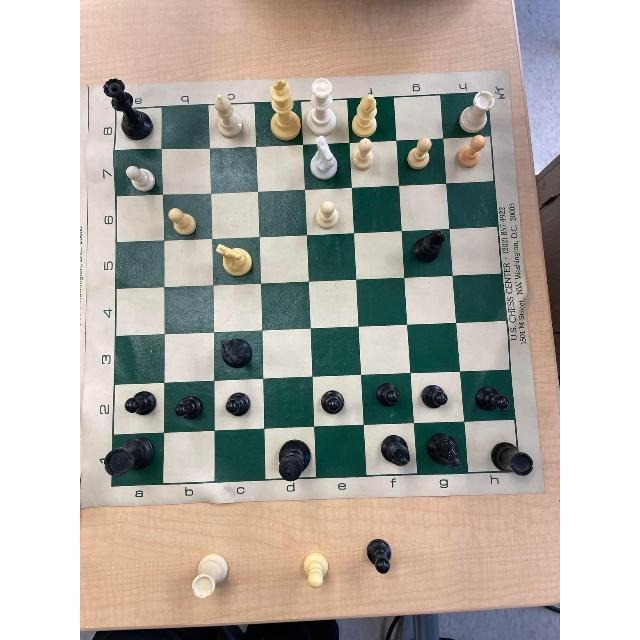black-bishop: (408, 226, 447, 267), (377, 433, 412, 473)
black-king: (273, 436, 312, 484)
black-knight: (423, 430, 465, 470), (217, 336, 253, 372)
black-pawn: (124, 387, 160, 420), (474, 384, 510, 416), (173, 391, 205, 425), (374, 380, 403, 412), (224, 389, 252, 421), (419, 382, 448, 411), (320, 387, 346, 418)
black-queen: (99, 75, 157, 144)
black-rook: (101, 434, 159, 479), (489, 439, 535, 479)
white-bishop: (210, 92, 247, 145), (349, 91, 379, 141)
white-king: (268, 78, 302, 146)
white-knight: (215, 241, 255, 283), (307, 136, 341, 184)
white-pawn: (456, 131, 488, 173), (125, 162, 157, 198), (406, 135, 435, 173), (350, 135, 376, 175), (167, 206, 199, 238), (313, 199, 342, 231)
white-queen: (304, 75, 340, 139)
white-rook: (456, 87, 497, 138)
